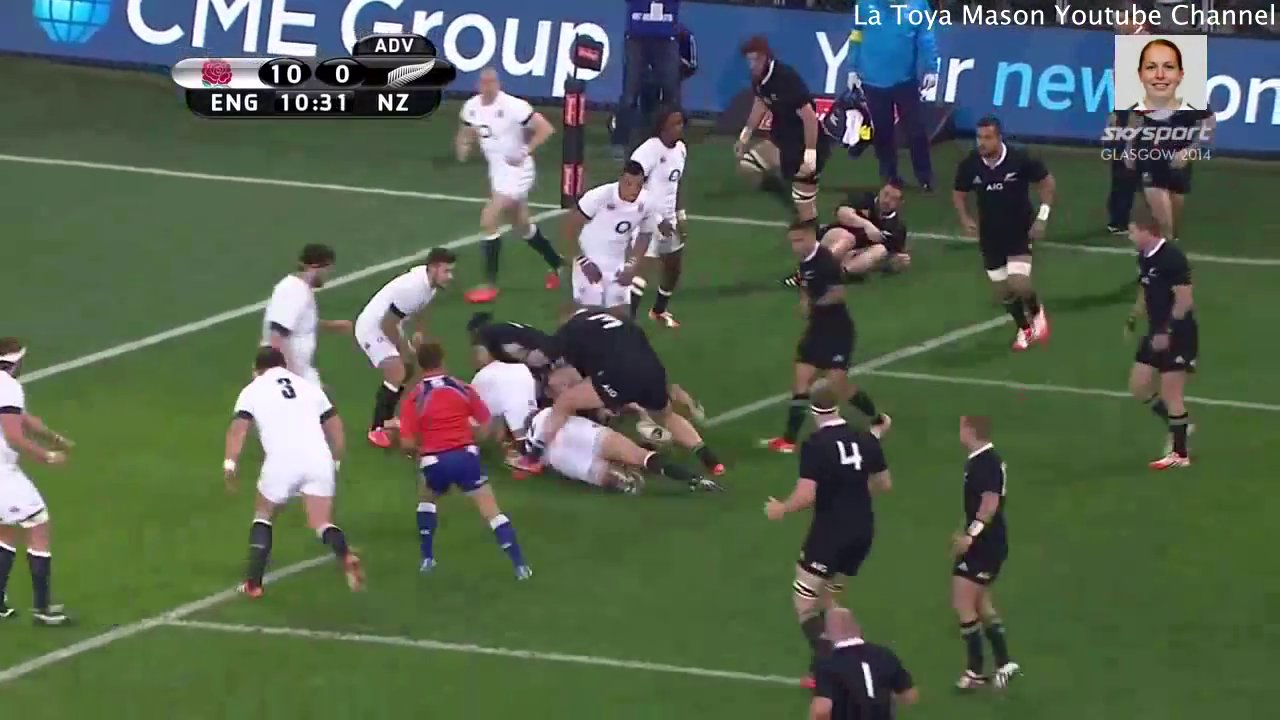player: (214, 344, 377, 604), (385, 353, 539, 592), (763, 383, 898, 632), (932, 410, 1037, 705), (945, 112, 1066, 355), (446, 67, 560, 303), (1108, 215, 1205, 475), (774, 216, 878, 447), (733, 36, 832, 251), (1, 326, 69, 635), (504, 420, 725, 503), (349, 241, 456, 409), (614, 105, 693, 296), (545, 304, 680, 414), (555, 156, 652, 309), (790, 606, 920, 720), (246, 236, 348, 367), (809, 176, 914, 275)
ruck: (414, 293, 727, 494)
